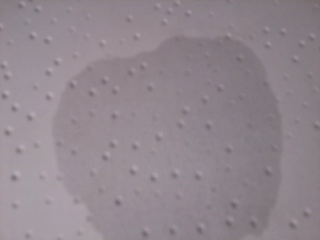Water_detected: (84, 66, 240, 235)
